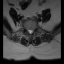CCS_stenosis: (29, 28, 31, 35)
LFS_normal: (33, 26, 35, 33)
LLS_normal: (31, 27, 33, 34)
RFS_normal: (26, 26, 28, 33)
RLS_normal: (28, 27, 29, 34)
